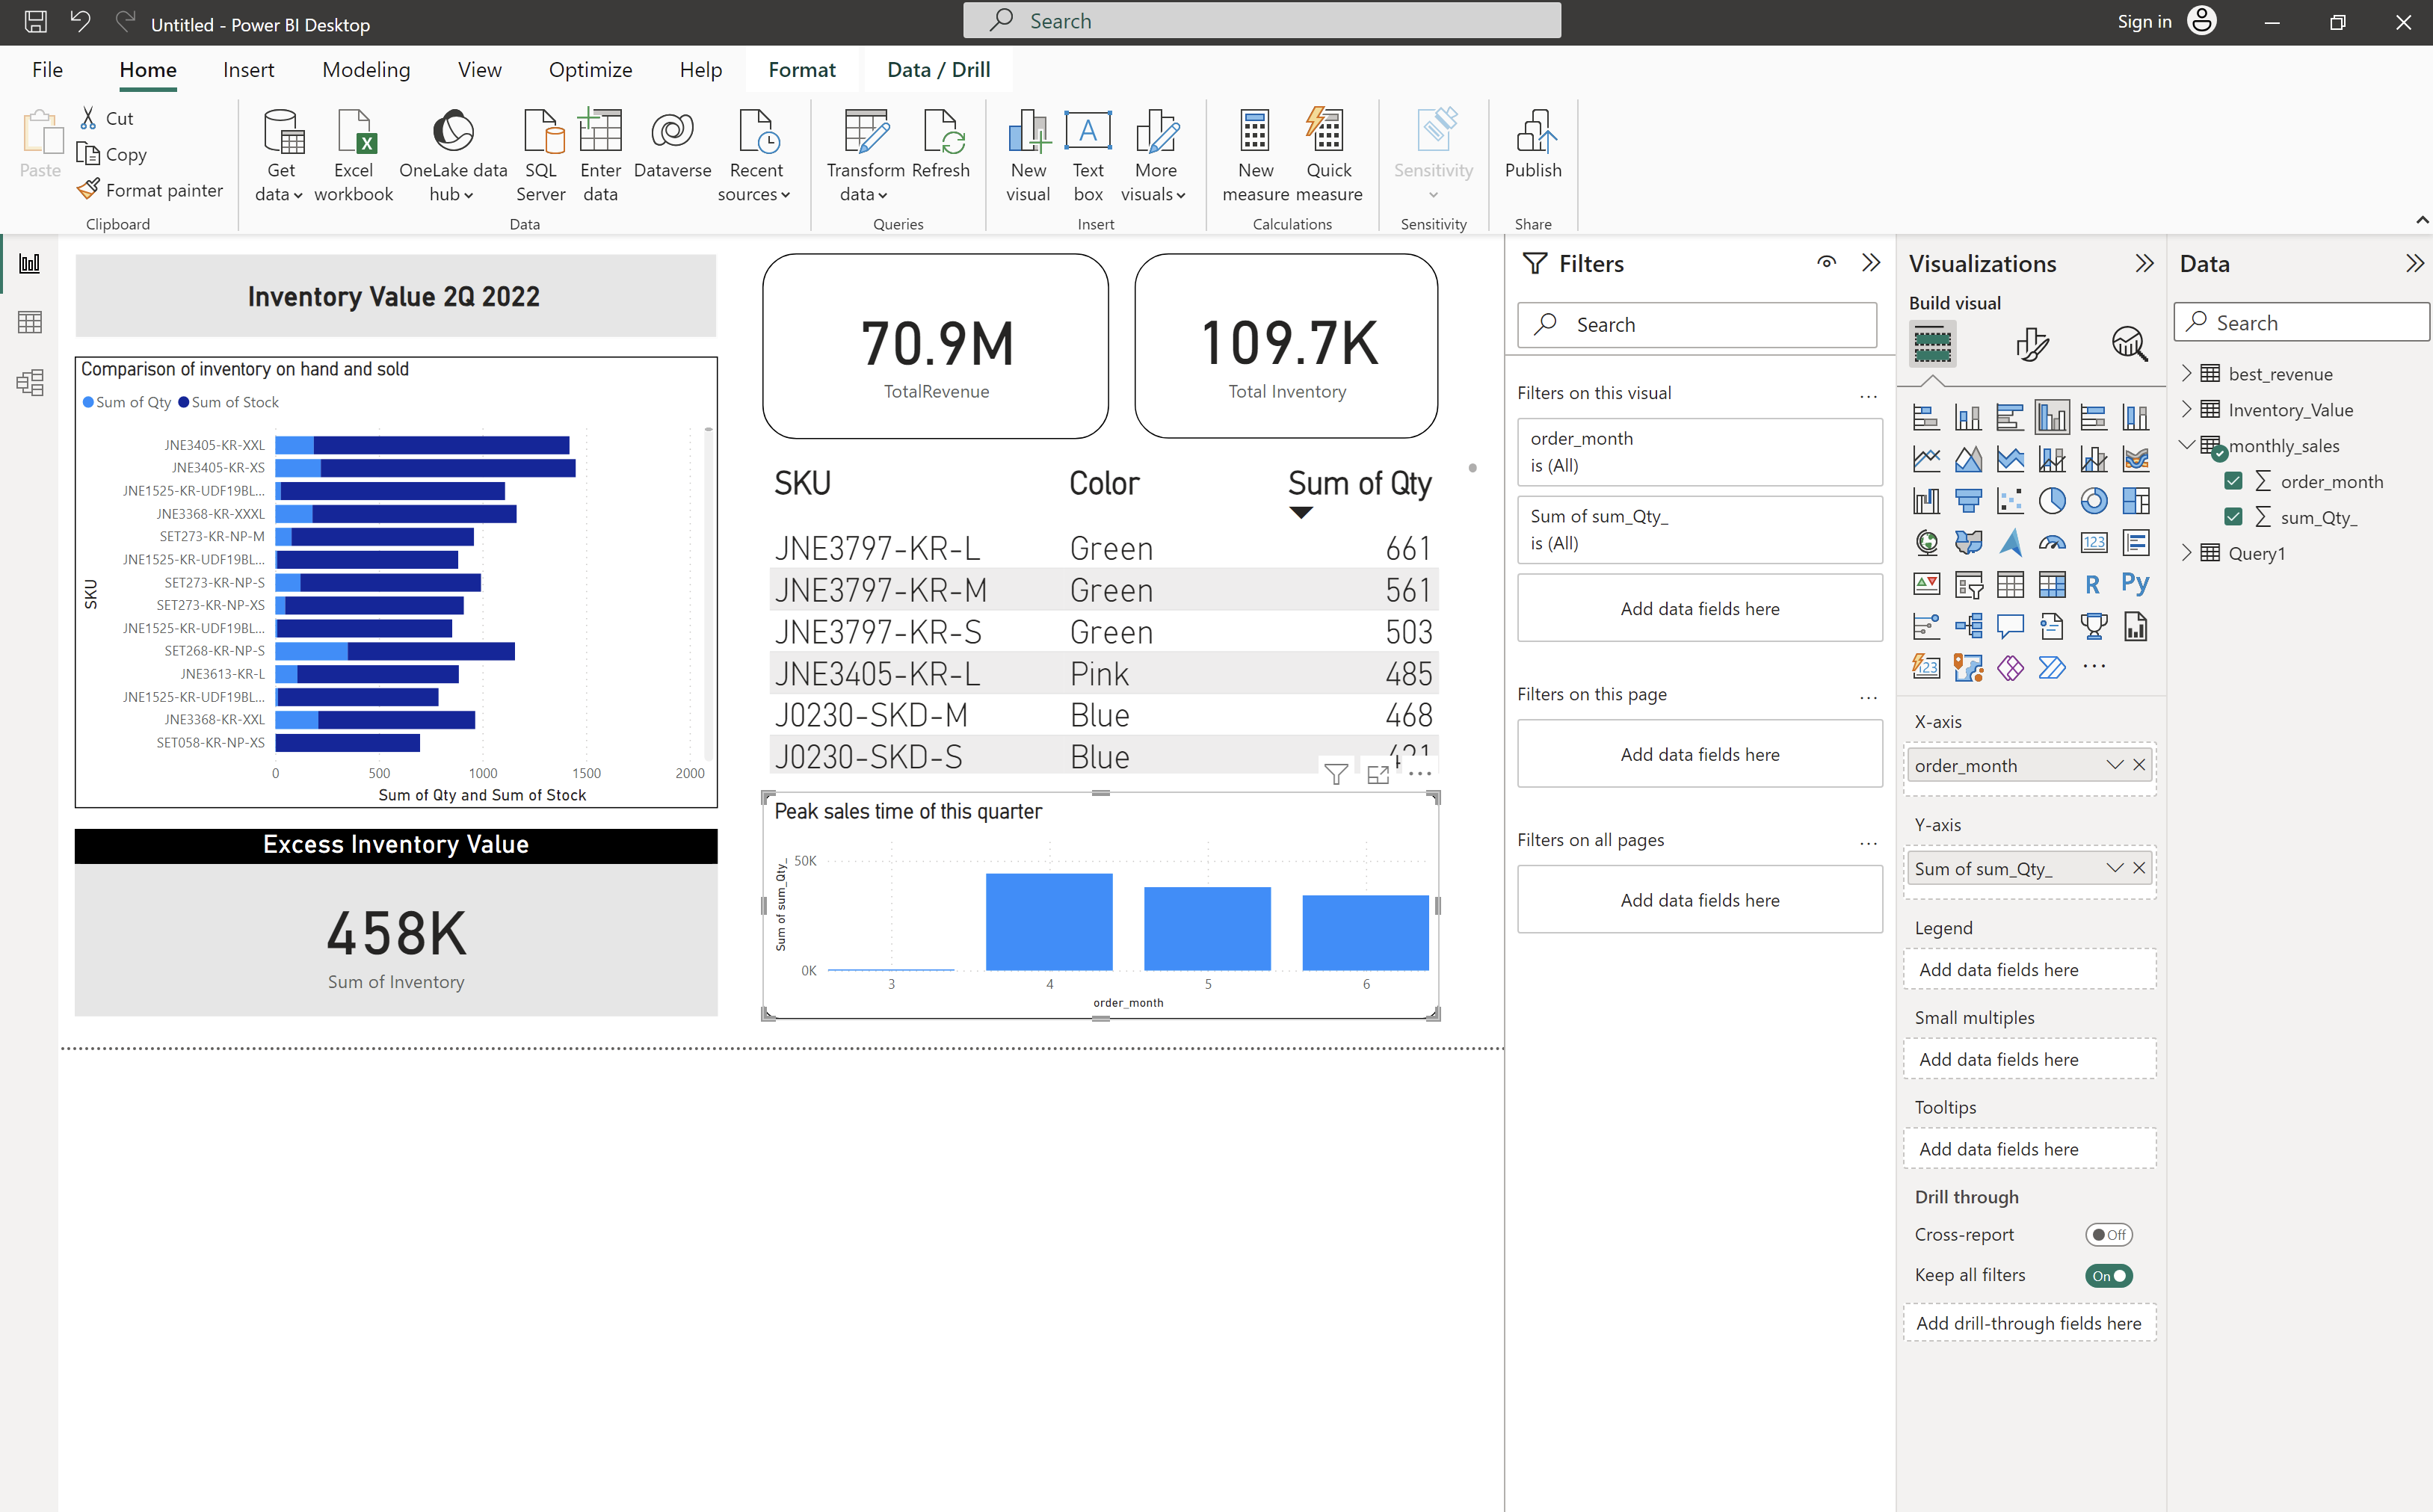

Layout of this report page (visuals, bound fields, positions):
{"tool":"powerbi","page":{"name":"Page 1","canvas":[1280,720],"ordinal":0},"visuals":[{"type":"textbox","box":[34.1,15.9,590.9,75],"z":0},{"type":"barChart","title":" Comparison of inventory on hand and sold","fields":{"Category":["best_revenue.SKU"],"Y":["Sum(best_revenue.sum_Qty_)","Sum(best_revenue.Stock)"]},"box":[34.1,109.1,588.6,400],"z":1000},{"type":"card","title":"Excess Inventory Value","fields":{"Values":["Sum(Inventory_value (2).Inventory_value)"]},"box":[34.1,527.3,588.6,165.9],"z":2000},{"type":"card","title":"To","fields":{"Values":["Sum(best_revenue.TotalRevenue)"]},"box":[638.6,15.9,306.8,165.9],"z":3000},{"type":"card","title":"To","fields":{"Values":["Sum(best_revenue.sum_Qty_)"]},"box":[970.3,15.5,268.4,163.9],"z":4000},{"type":"tableEx","fields":{"Values":["best_revenue.SKU","best_revenue.Color","Sum(best_revenue.sum_Qty_)"]},"box":[638.7,192.3,638.7,286.5],"z":5000},{"type":"clusteredColumnChart","title":"Peak sales time of this quarter","fields":{"Category":["monthly_sales.order_month"],"Y":["Sum(monthly_sales.sum_Qty_)"]},"box":[638.6,504.5,600,200],"z":6000}]}

Visuals, with their boxes on the page's 1280x720 design canvas (x1, y1, x2, y2). These are canvas units, not pixel positions in the 2433x1512 screenshot, which may show the page scaled, cropped or inside an application window:
textbox: [left=34, top=16, right=625, bottom=91]
" Comparison of inventory on hand and sold" barChart: [left=34, top=109, right=623, bottom=509]
"Excess Inventory Value" card: [left=34, top=527, right=623, bottom=693]
"To" card: [left=639, top=16, right=945, bottom=182]
"To" card: [left=970, top=16, right=1239, bottom=179]
tableEx - best_revenue.SKU x best_revenue.Color: [left=639, top=192, right=1277, bottom=479]
"Peak sales time of this quarter" clusteredColumnChart: [left=639, top=504, right=1239, bottom=704]
